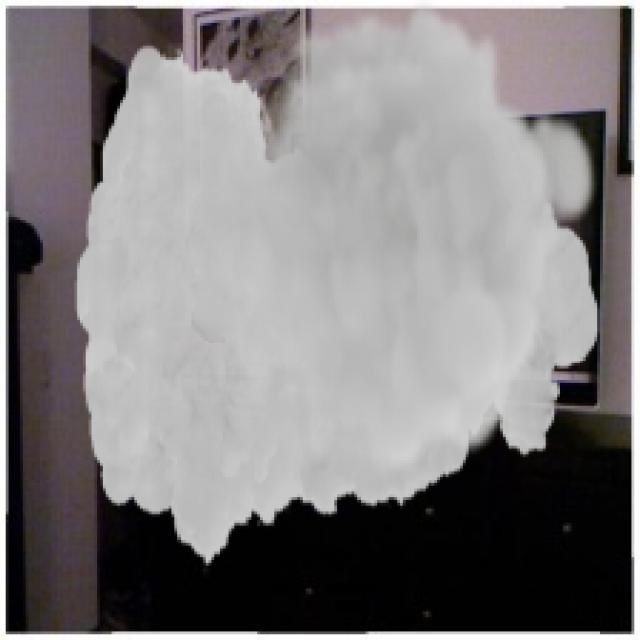smoke: (74, 0, 600, 569)
